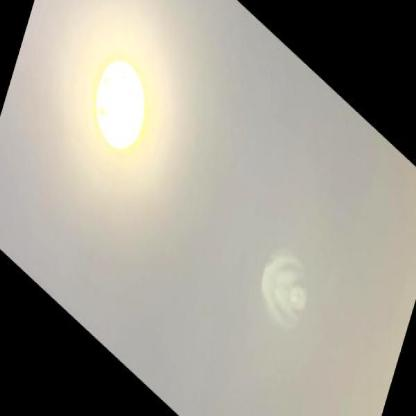light_on: (74, 24, 167, 187)
